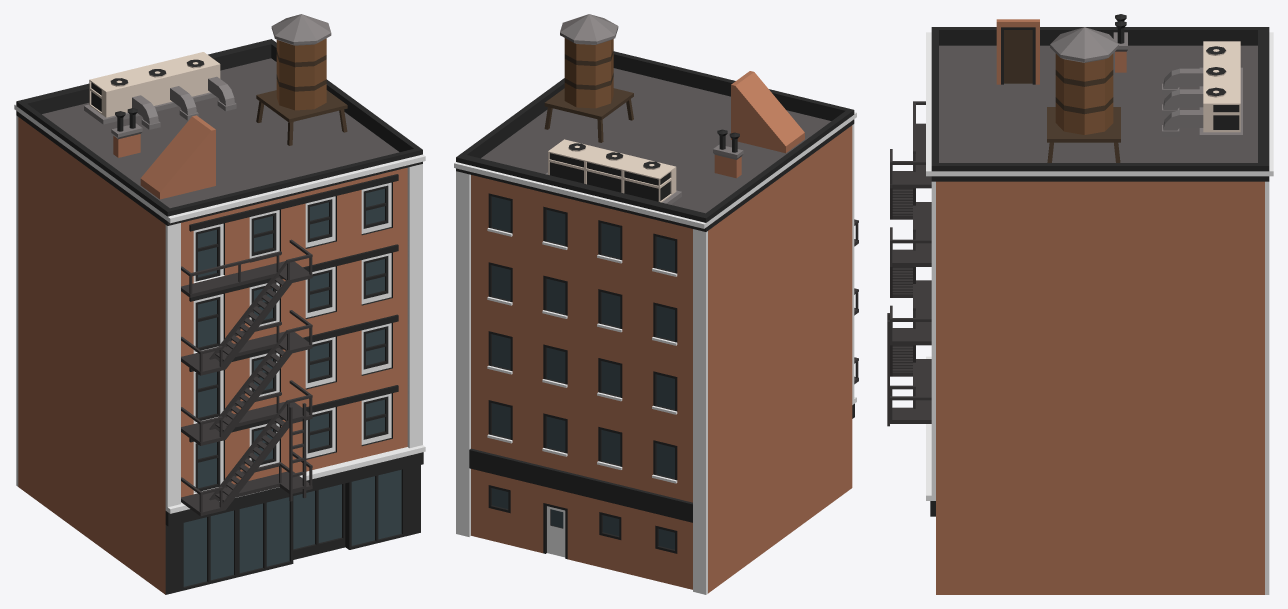
The model's file is buildings_building-block-4floor-front.fbx.
3 renders of one model, left to right at view 1: azimuth 30°, elevation 25°; view 2: azimuth 150°, elevation 25°; view 3: azimuth 270°, elevation 25°, orthographic. The views are drawn at different scales.
Parts seen in each view (by area): view 1: buildings_building_block_4floor_front; view 2: buildings_building_block_4floor_front; view 3: buildings_building_block_4floor_front.
Boxes of the visible parts, x1,y1,x2,y2 form: buildings_building_block_4floor_front: (14,14,425,594); buildings_building_block_4floor_front: (454,14,858,594); buildings_building_block_4floor_front: (887,14,1273,594).
Size of the model in its own units: 111 by 200 by 130.
